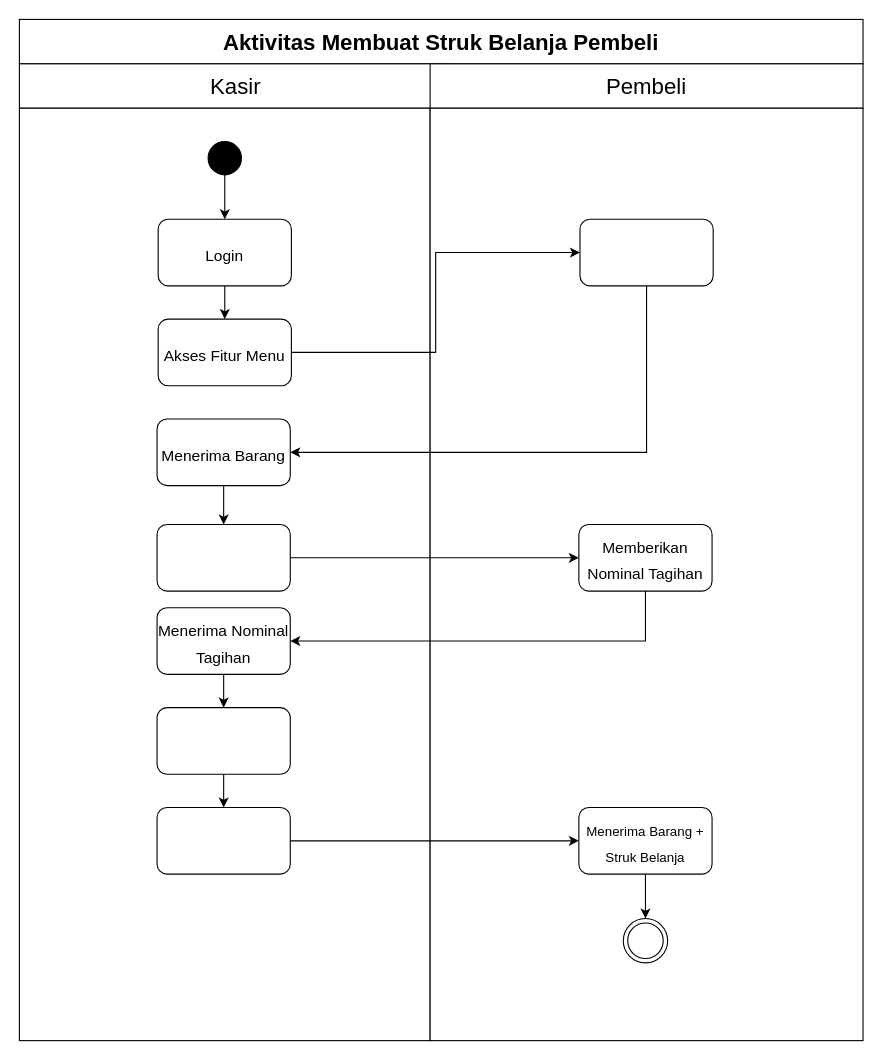
This 882x1060 diagram has some shape labels left out. The centre of each missing label's shape, as x and y in pixels:
Akses Fitur Payment: pixel 223 557
Cetak Struk Belanja: pixel 223 740
Checkout Barang: pixel 646 252
Memberikan Barang + Struk Belanja: pixel 223 840
